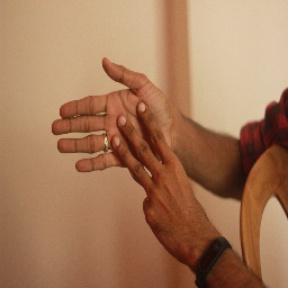M: (47, 56, 187, 186)
